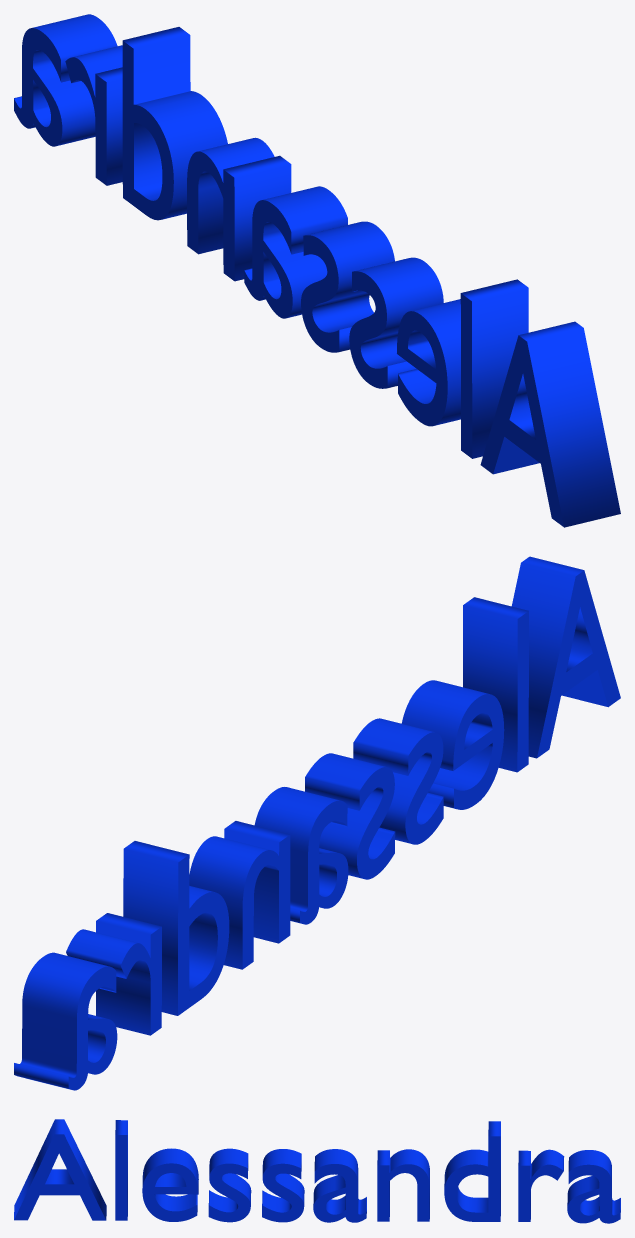
Rendered from ALESSANDRA.fbx.
3 renders of one model, top to bottom at view 1: azimuth 30°, elevation 25°; view 2: azimuth 150°, elevation 25°; view 3: azimuth 270°, elevation 25°, orthographic. The views are drawn at different scales.
Parts seen in each view (by area): view 1: alessandra_vittano_ALESSANDRA_LOD0; view 2: alessandra_vittano_ALESSANDRA_LOD0; view 3: alessandra_vittano_ALESSANDRA_LOD0.
Part boxes in pixels (<box>): alessandra_vittano_ALESSANDRA_LOD0: <box>14,14,620,527</box>; alessandra_vittano_ALESSANDRA_LOD0: <box>14,556,620,1090</box>; alessandra_vittano_ALESSANDRA_LOD0: <box>14,1119,620,1223</box>.
Size of what is drawn, in the model's own units: 58.99 by 140 by 884.
